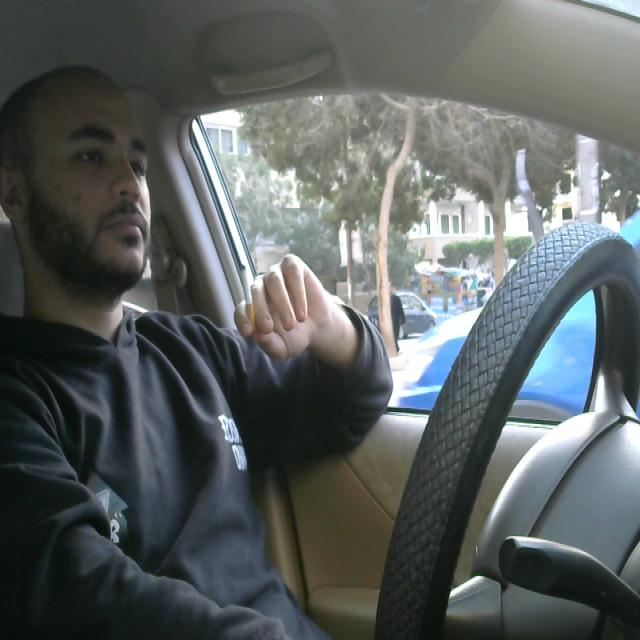smoking: (231, 252, 263, 341)
